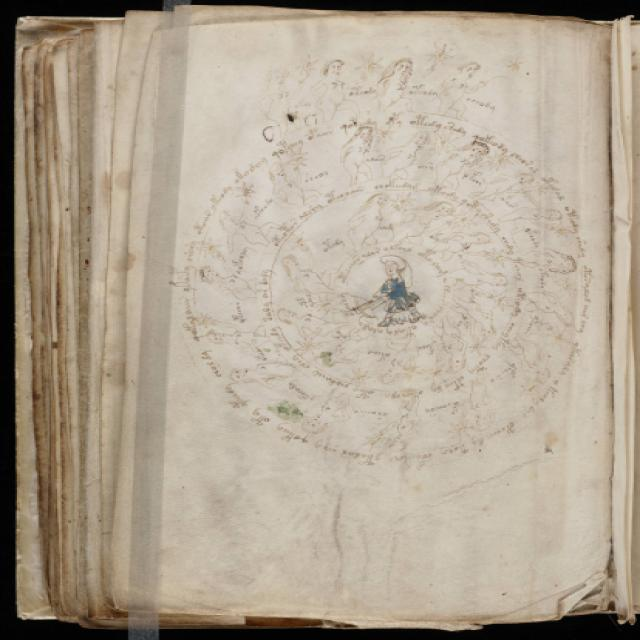ornament_circle: (177, 118, 593, 460)
people: (297, 46, 497, 127)
person: (429, 58, 492, 122), (369, 53, 418, 116), (307, 54, 350, 124)
